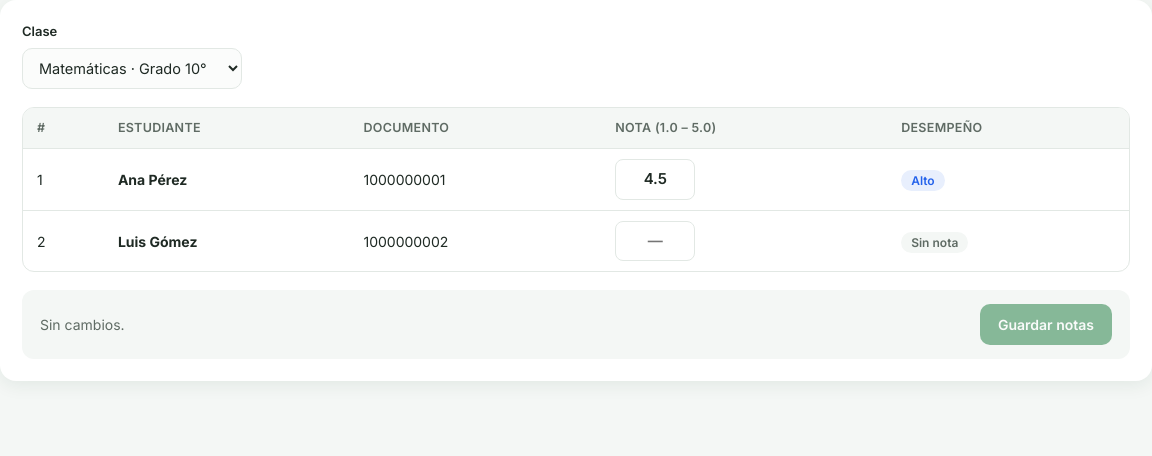
it: Docente: Registrar notas › marca como no válida una nota fuera de 1.0 a 5.0 y no la guarda
Type "7" into the field named "Nota de Luis Gómez" at coordinates (655, 241), box [615, 221, 695, 261]
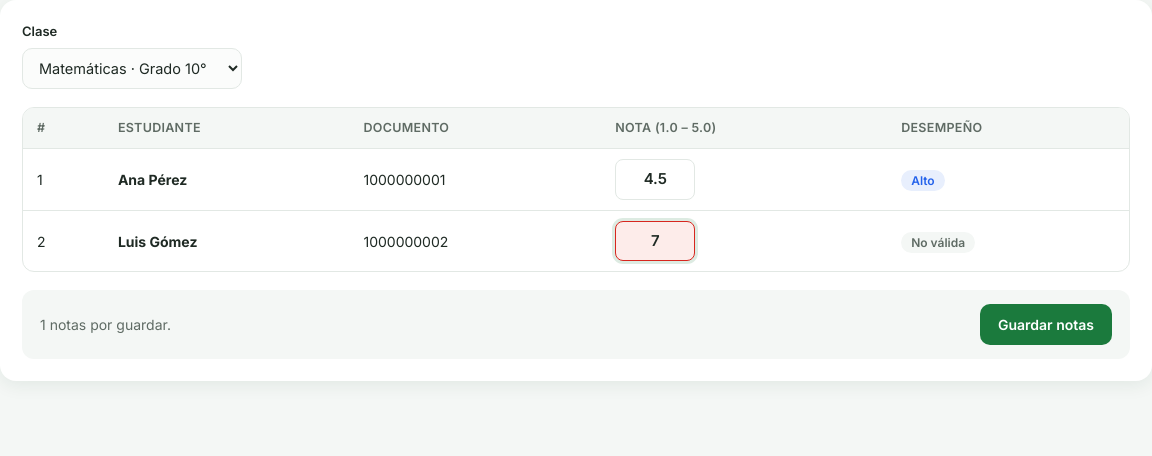
expect the text "No válida" is shown: met, box [901, 232, 975, 252]
Click the button "Guardar notas" at coordinates (1046, 325), box [980, 304, 1112, 345]
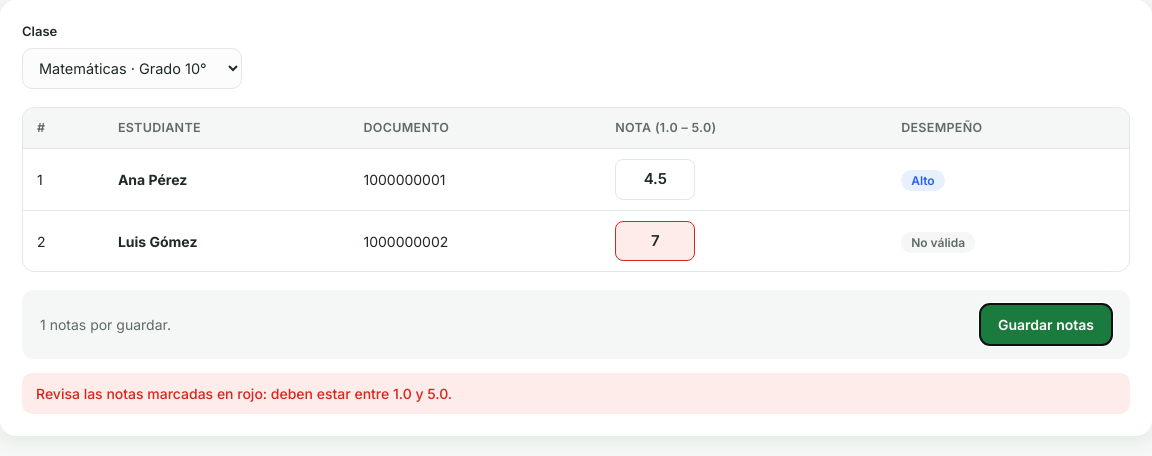
expect the text "deben estar entre 1.0 y 5.0" is shown: met, box [36, 385, 452, 402]
